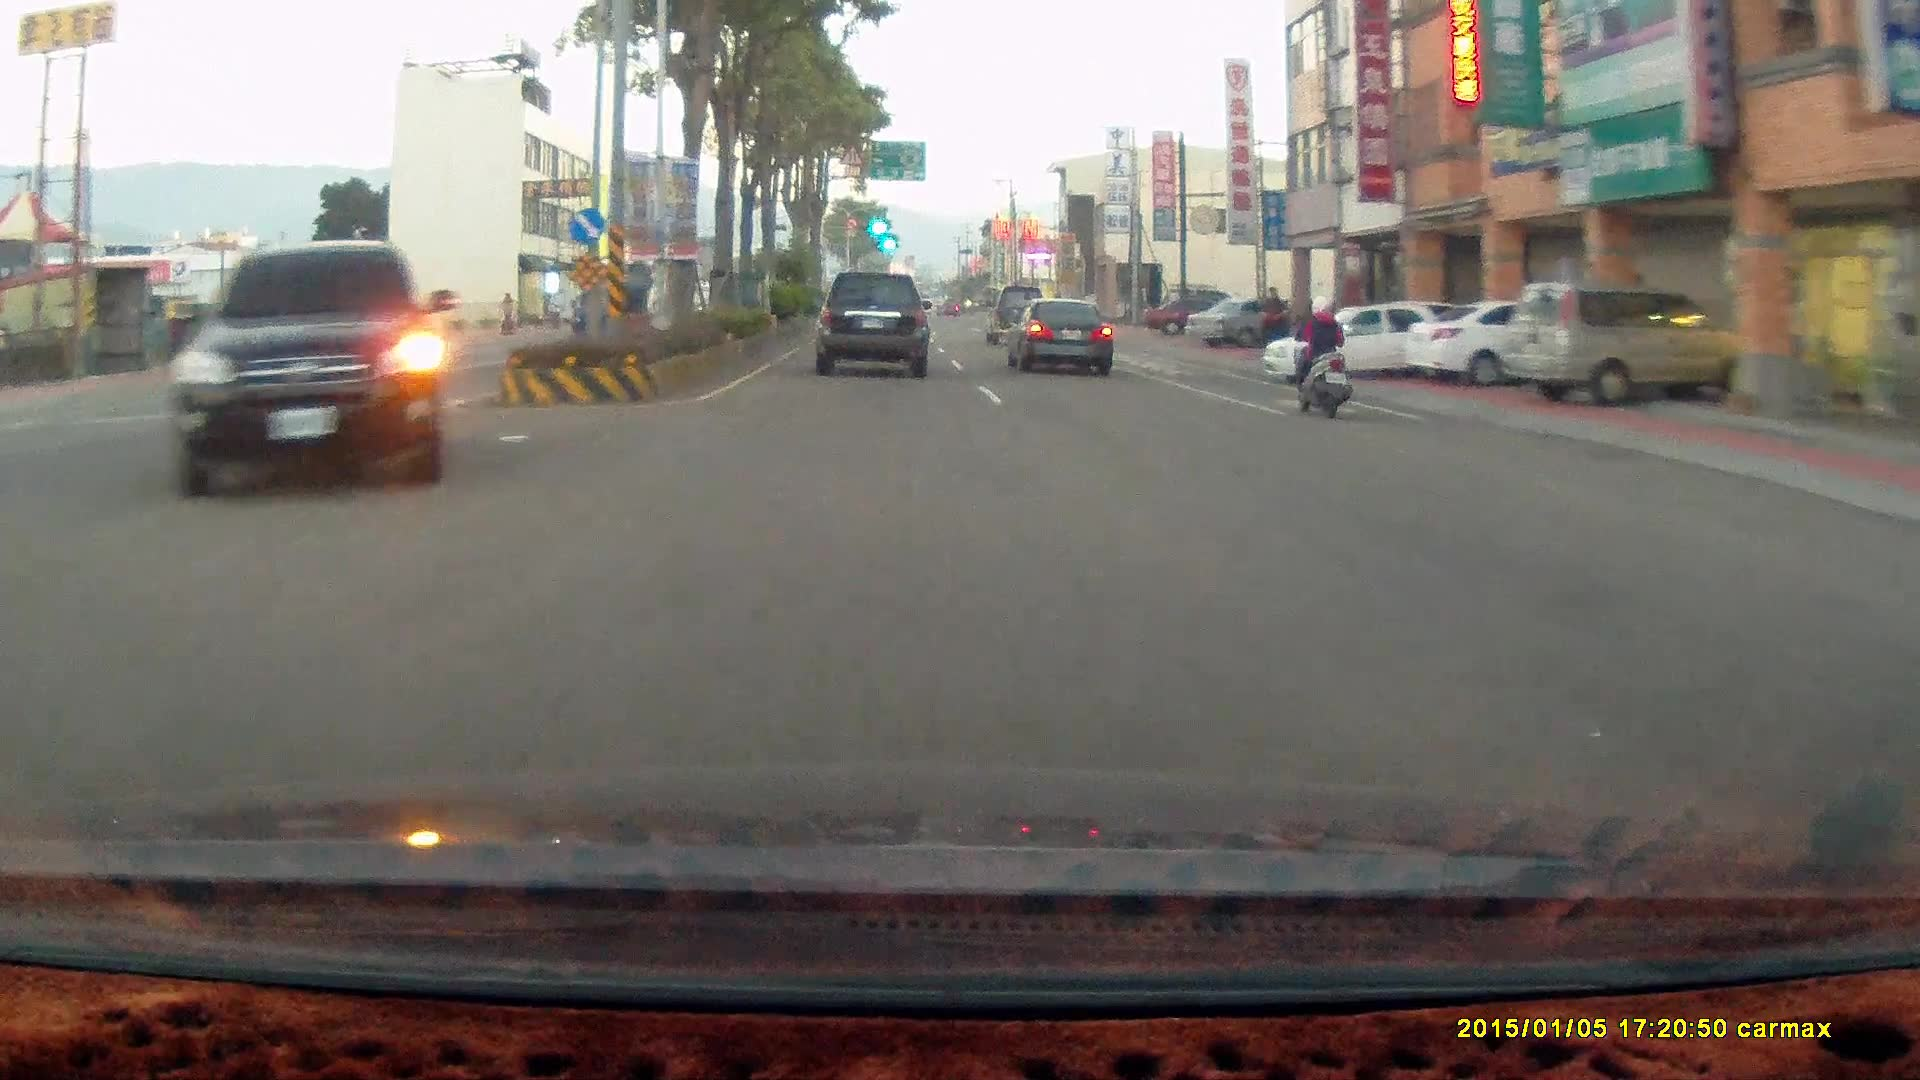pedestrian: (1256, 284, 1285, 357), (160, 304, 186, 371)
rider: (1280, 287, 1361, 426), (1289, 294, 1353, 419)
vehicle: (151, 239, 464, 500), (179, 236, 452, 501), (1501, 280, 1745, 417), (1501, 280, 1753, 407), (1402, 298, 1627, 390), (1400, 296, 1610, 388), (1264, 305, 1475, 390), (1261, 299, 1451, 382), (814, 271, 933, 380), (813, 269, 931, 377), (1007, 299, 1124, 379), (1004, 294, 1110, 375), (1186, 298, 1301, 349), (1186, 299, 1300, 350), (1143, 293, 1242, 335), (982, 283, 1049, 342)
